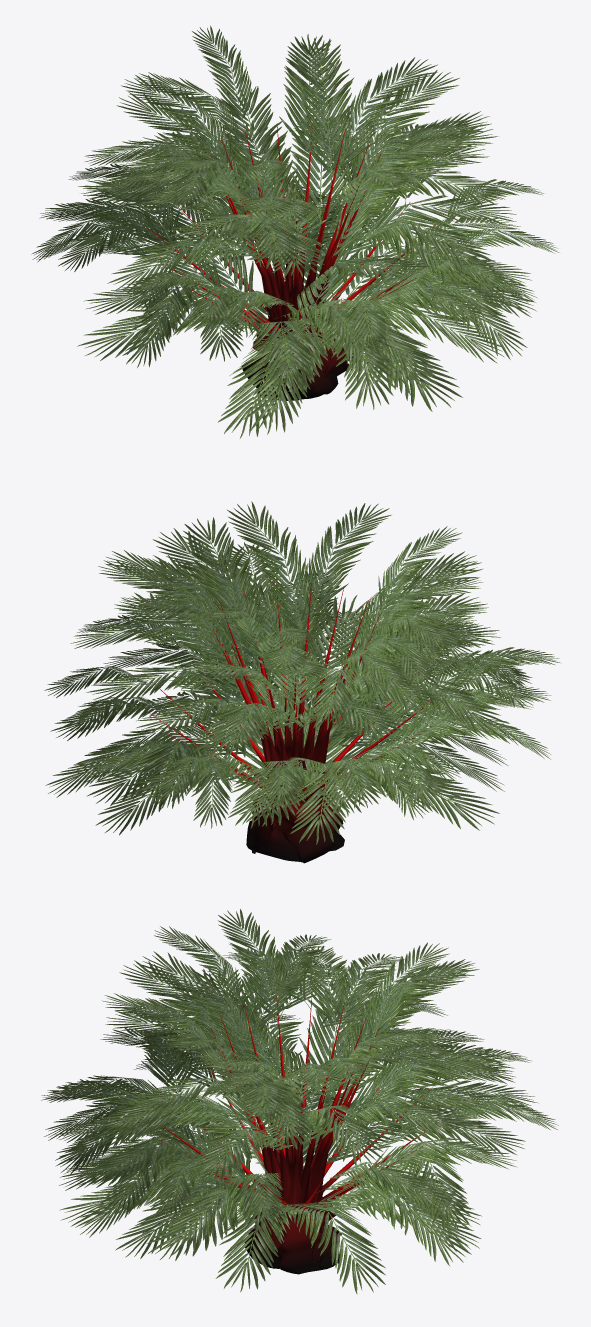
Rendered from Palm_3_6.fbx.
3 views of the same model, one above another, from view 1: azimuth 30°, elevation 25°; view 2: azimuth 150°, elevation 25°; view 3: azimuth 270°, elevation 25° (orthographic).
Parts seen in each view (by area): view 1: Palm_3_6; view 2: Palm_3_6; view 3: Palm_3_6.
Boxes of the visible parts, left/top/right/bottom form: Palm_3_6: left=31, top=25, right=559, bottom=438; Palm_3_6: left=44, top=501, right=561, bottom=863; Palm_3_6: left=41, top=909, right=558, bottom=1294.
Bounding box in the file's own units: 4473 × 2580 × 4599.
